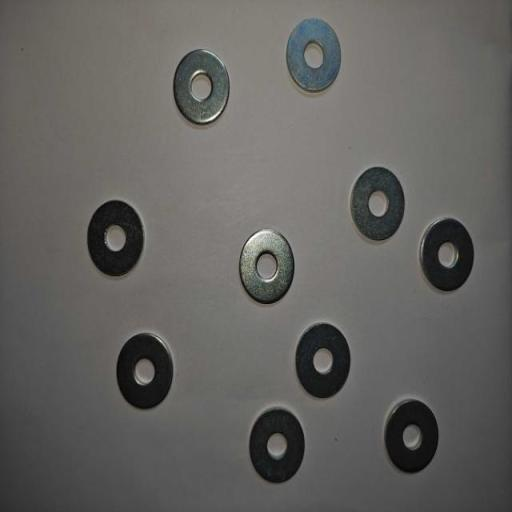washer: (86, 200, 146, 278), (115, 332, 175, 410), (248, 406, 306, 484), (173, 48, 230, 126), (295, 322, 352, 400), (383, 398, 440, 475), (286, 17, 342, 95), (350, 166, 406, 244), (239, 229, 295, 305), (420, 218, 474, 293)
